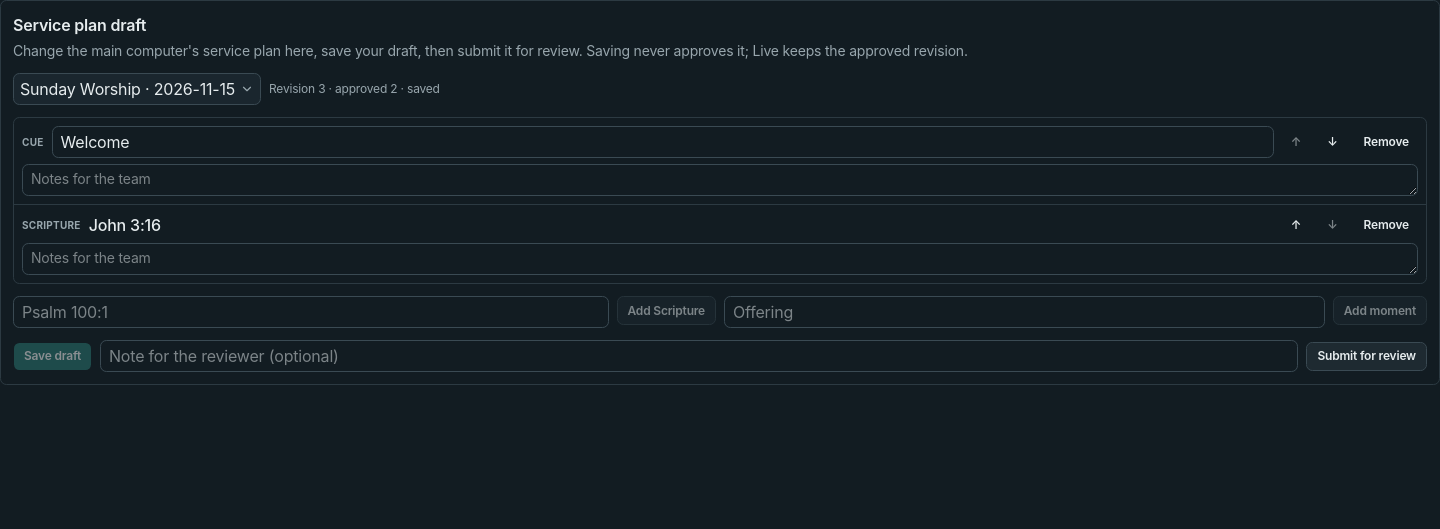
it: joined Editor plan draft (#847) › a conflict on Submit does not claim the draft went unsaved
This screenshot has width=1440, height=529.
Step 1. Click the button "Submit for review" → click(1367, 356), box [1306,342,1427,370]
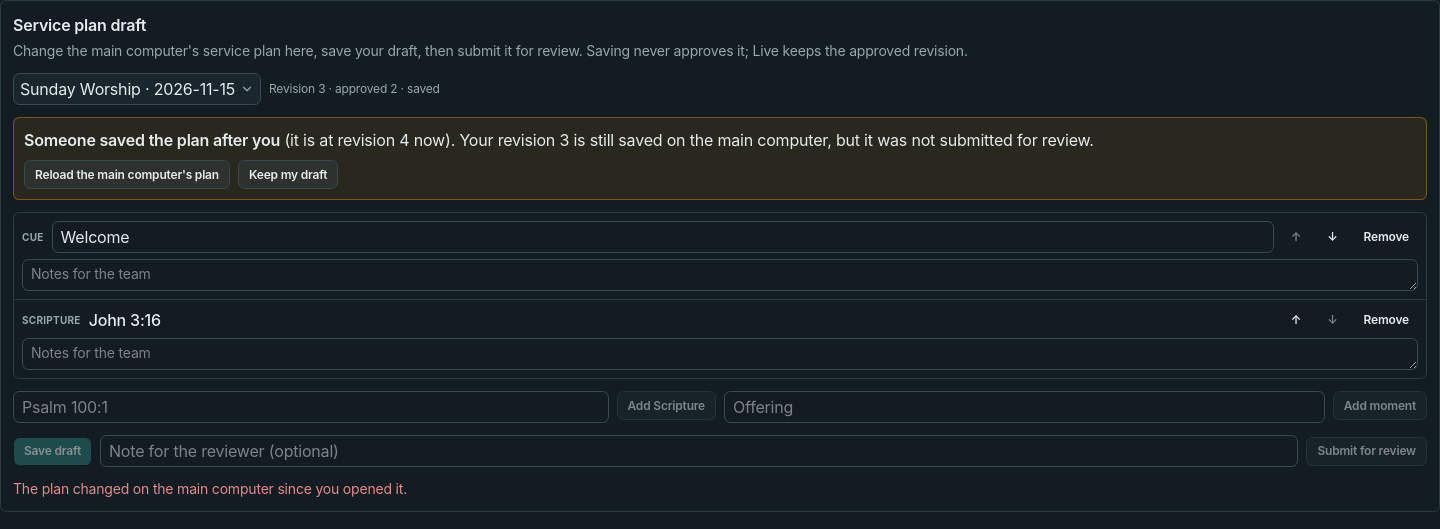
Check: the message named "Plan conflict" shows "Your revision 3 is still saved on the main computer, but it was not submitted for review", box [13,117,1427,200]
